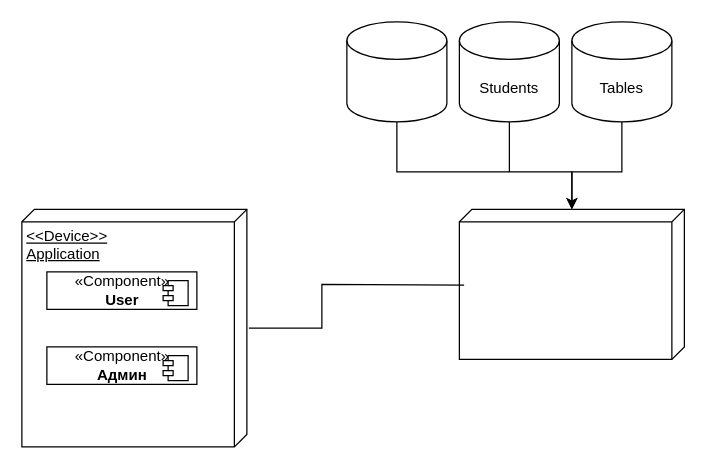
This 706x469 diagram has some shape labels left out. Here are the shapes that lost their labels. From the top down, the centre of each, then its label:
At [396,71]: "Bluds".
At [571,283]: "<<Device>> DbServer".
